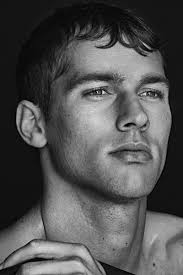middle_eastern_male: (23, 10, 177, 190)
